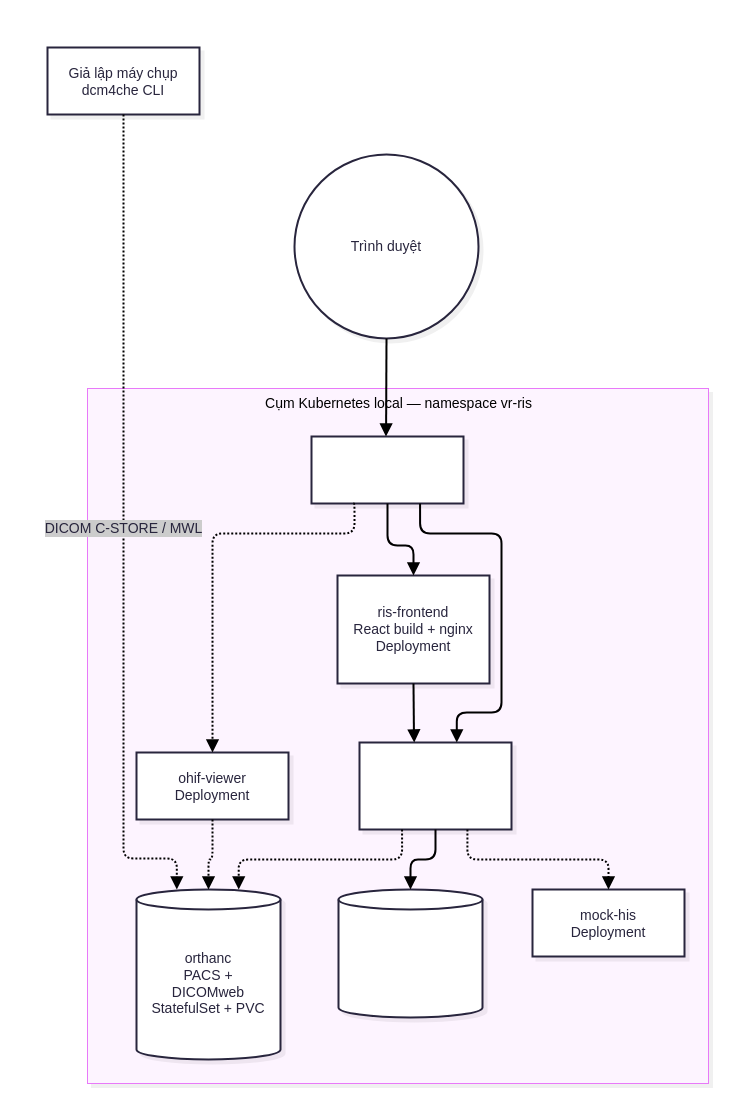
Image size: 730x1105. Some labels were removed from this diagram. Here are the shapes that lost their labels. From the top down, the centre of each, then its label:
At (x=389, y=471): "Ingress / NodePort".
At (x=437, y=787): "ris-backend Spring Boot Deployment".
At (x=412, y=955): "mysql StatefulSet + PVC".
